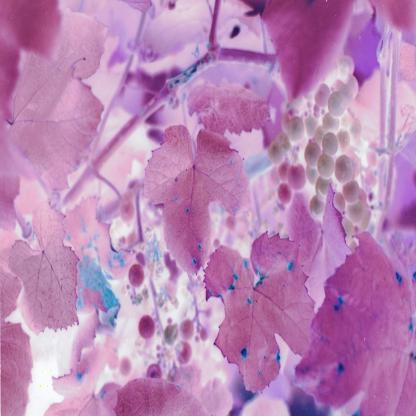grape leaf: (291, 235, 413, 416), (202, 232, 314, 392), (142, 118, 252, 274), (62, 195, 131, 330)
